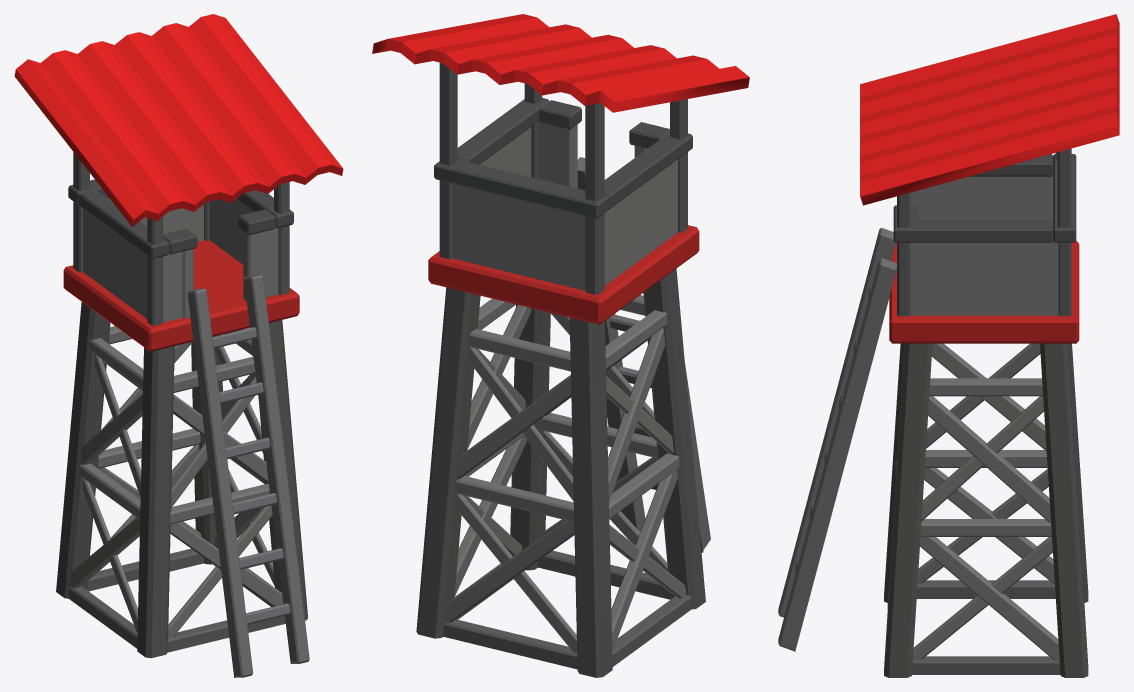
Rendered from WatchTower_1_E.fbx.
3 views of the same model, side by side, from view 1: azimuth 30°, elevation 25°; view 2: azimuth 150°, elevation 25°; view 3: azimuth 270°, elevation 25° (orthographic). The views are drawn at different scales.
Parts seen in each view (by area): view 1: WatchTower_1_E; view 2: WatchTower_1_E; view 3: WatchTower_1_E.
Boxes of the visible parts, left/top/right/bottom form: WatchTower_1_E: left=14, top=14, right=343, bottom=677; WatchTower_1_E: left=372, top=14, right=749, bottom=677; WatchTower_1_E: left=778, top=14, right=1119, bottom=677.
Bounding box in the file's own units: 236 × 564 × 305.
